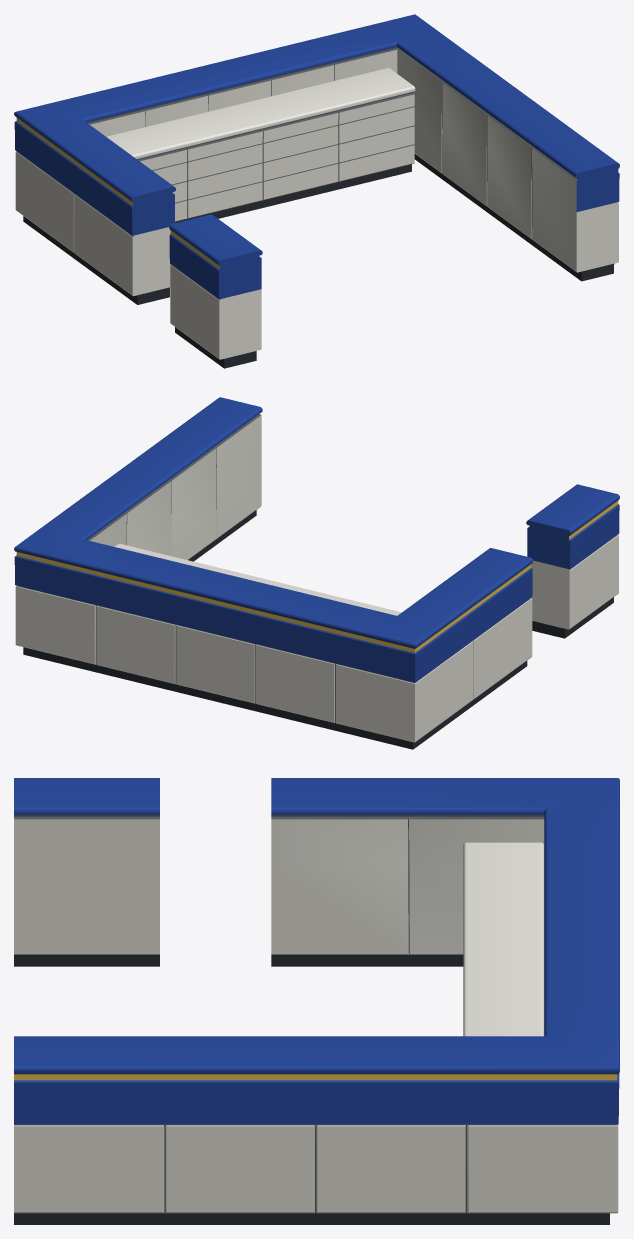
Rendered from checkout-counter-usquare-rounded-2010.glb.
3 views of the same model, one above another, from view 1: azimuth 30°, elevation 25°; view 2: azimuth 150°, elevation 25°; view 3: azimuth 270°, elevation 25° (orthographic). The views are drawn at different scales.
Visible parts, largest first — view 1: usquare-surround-0.003, usquare-work-cabinet.003, usquare-surround-1.003; view 2: usquare-surround-0.003, usquare-surround-1.003, usquare-work-cabinet.003; view 3: usquare-surround-0.003, usquare-surround-1.003, usquare-work-cabinet.003.
Boxes of the visible parts, x1=… form: usquare-surround-0.003: x1=14, y1=14, x2=619, y2=304; usquare-work-cabinet.003: x1=106, y1=67, x2=415, y2=222; usquare-surround-1.003: x1=169, y1=214, x2=262, y2=368; usquare-surround-0.003: x1=14, y1=397, x2=533, y2=749; usquare-surround-1.003: x1=526, y1=484, x2=619, y2=638; usquare-work-cabinet.003: x1=115, y1=543, x2=401, y2=615; usquare-surround-0.003: x1=14, y1=778, x2=619, y2=1224; usquare-surround-1.003: x1=14, y1=778, x2=159, y2=966; usquare-work-cabinet.003: x1=463, y1=842, x2=544, y2=1036.
Size of the model in its own units: 13.6 by 3.54 by 11.99.
